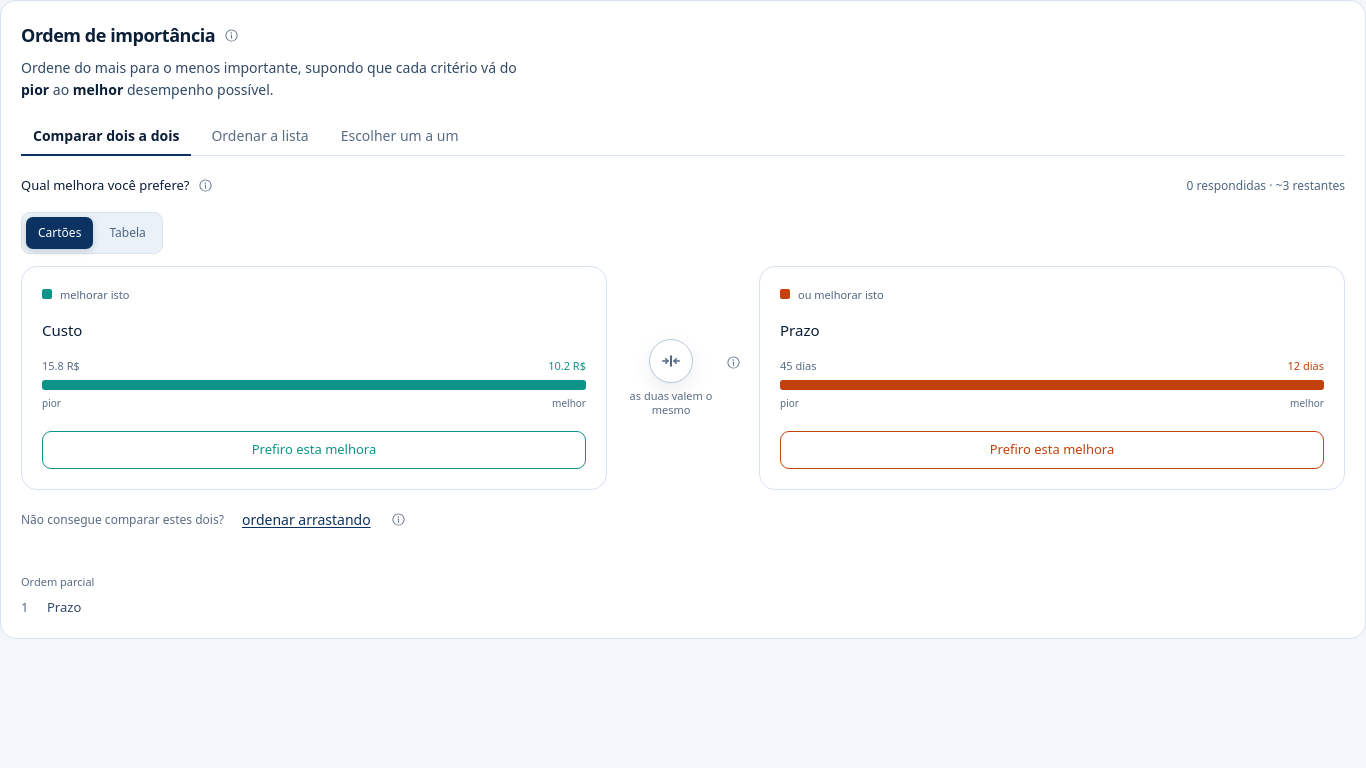
Test case: a faixa nos tres modos de ordenacao › o modo de escolher um a um desenha a faixa em cada opcao
This screenshot has width=1366, height=768.
Click the button "Escolher um a um".
click(400, 137)  # box [329,118,470,156]
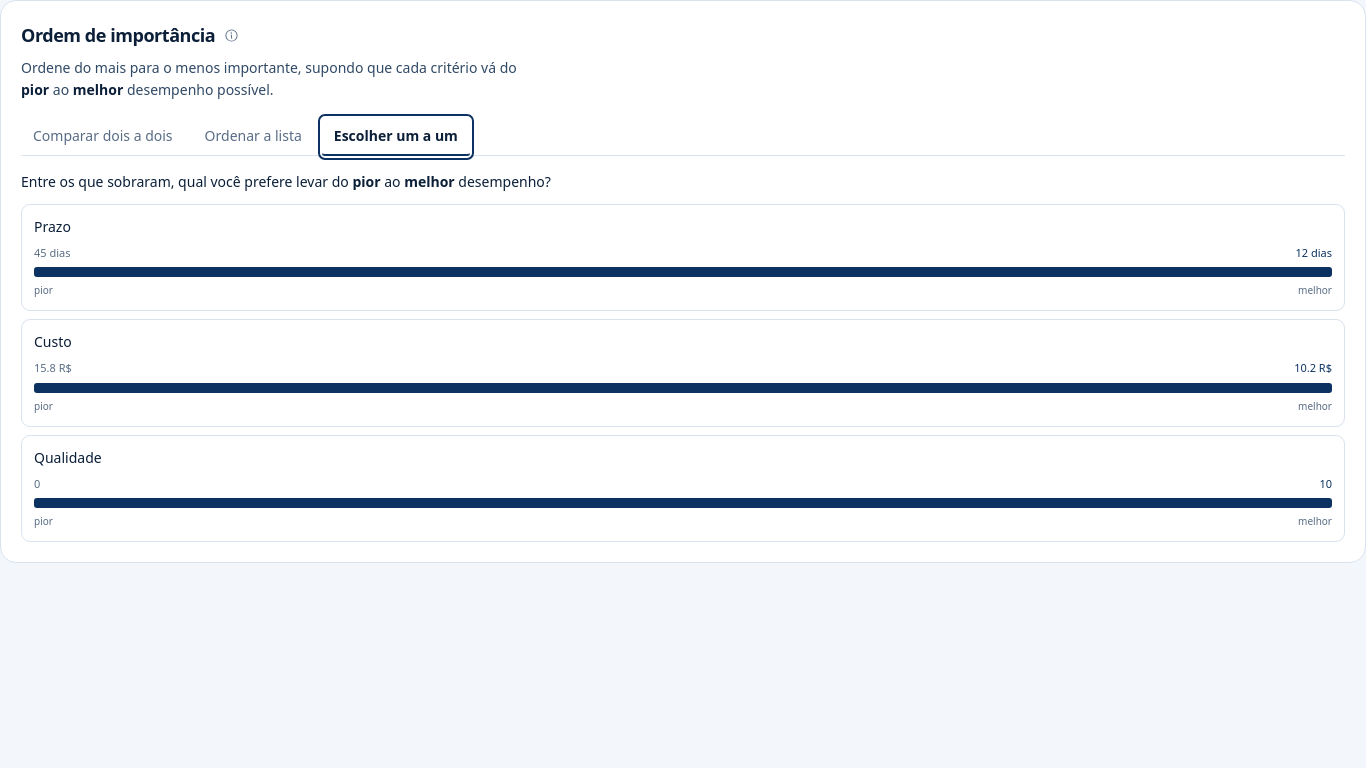
Expected: the button "Prazo 45 dias 12 dias pior melhor" is shown, [21,204,1345,311]
Now the number of pictures is 3, box [34,245,1332,298]; [34,360,1332,414]; [34,476,1332,529]
